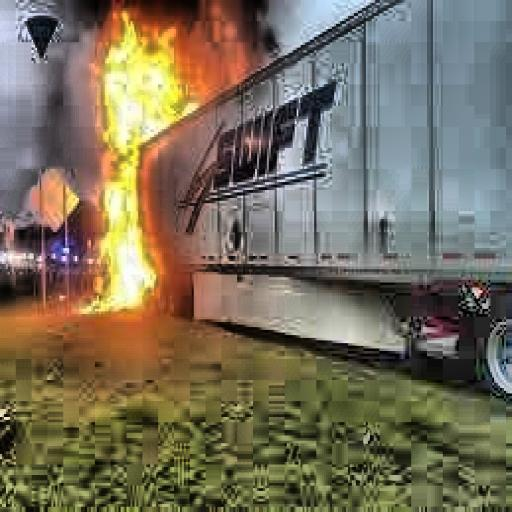fire: (67, 13, 214, 325)
